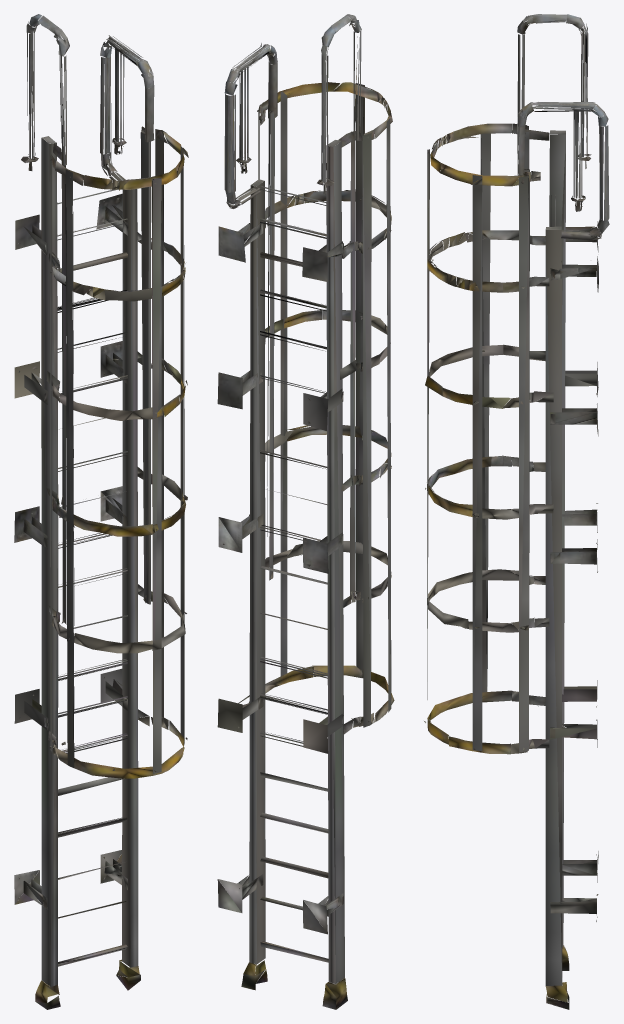
File: ladder-far.glb
3 views of the same model, side by side, from view 1: azimuth 30°, elevation 25°; view 2: azimuth 150°, elevation 25°; view 3: azimuth 270°, elevation 25° (orthographic). The views are drawn at different scales.
Parts seen in each view (by area): view 1: ladder; view 2: ladder; view 3: ladder.
Part boxes in pixels (x1=…): ladder: x1=14, y1=14, x2=188, y2=1009; ladder: x1=217, y1=14, x2=394, y2=1009; ladder: x1=424, y1=14, x2=609, y2=1009.
Size of the model in its own units: 0.7994 by 6.5 by 1.15.
Materials: 1 (1 with a texture image).
